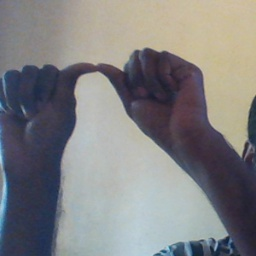A: (1, 45, 209, 184)
